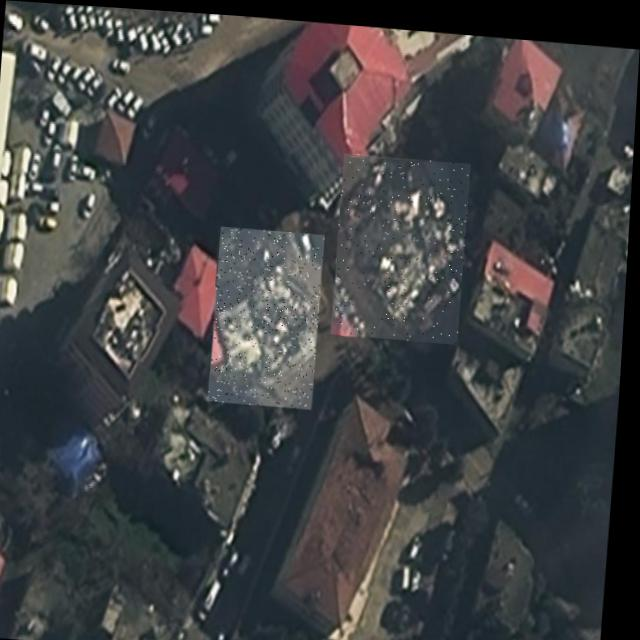Rubble: (334, 147, 473, 337), (212, 222, 327, 404)
